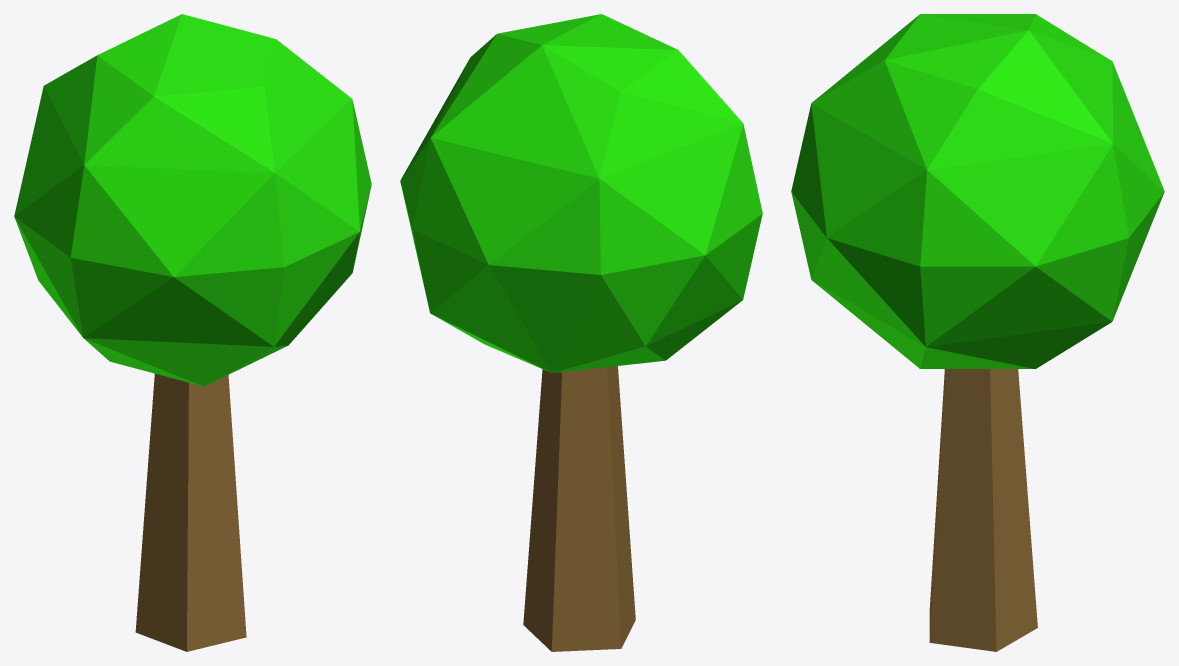
Rendered from puu1.fbx.
3 renders of one model, left to right at view 1: azimuth 30°, elevation 25°; view 2: azimuth 150°, elevation 25°; view 3: azimuth 270°, elevation 25°, orthographic. The views are drawn at different scales.
Parts seen in each view (by area): view 1: Icosphere, Cylinder; view 2: Icosphere, Cylinder; view 3: Icosphere, Cylinder.
Part boxes in pixels (x1,y1,x2,y2): Icosphere: (14, 14, 371, 386); Cylinder: (135, 373, 246, 651); Icosphere: (400, 14, 762, 373); Cylinder: (523, 366, 635, 651); Icosphere: (791, 14, 1164, 368); Cylinder: (929, 369, 1037, 651).
Size of the model in its own units: 209 by 392 by 220.
